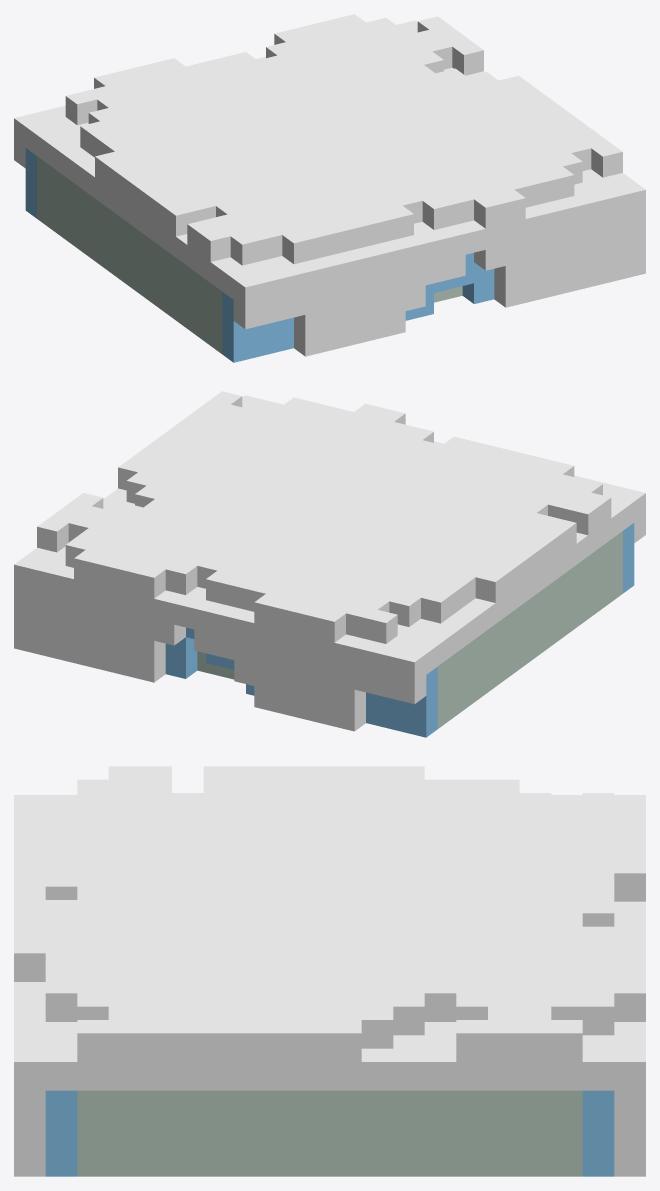
Rendered from Floors-25.obj.
3 renders of one model, top to bottom at view 1: azimuth 30°, elevation 25°; view 2: azimuth 150°, elevation 25°; view 3: azimuth 270°, elevation 25°, orthographic. The views are drawn at different scales.
Size of the model in its own units: 2 by 0.5 by 2.
1 material, 1 textured.
